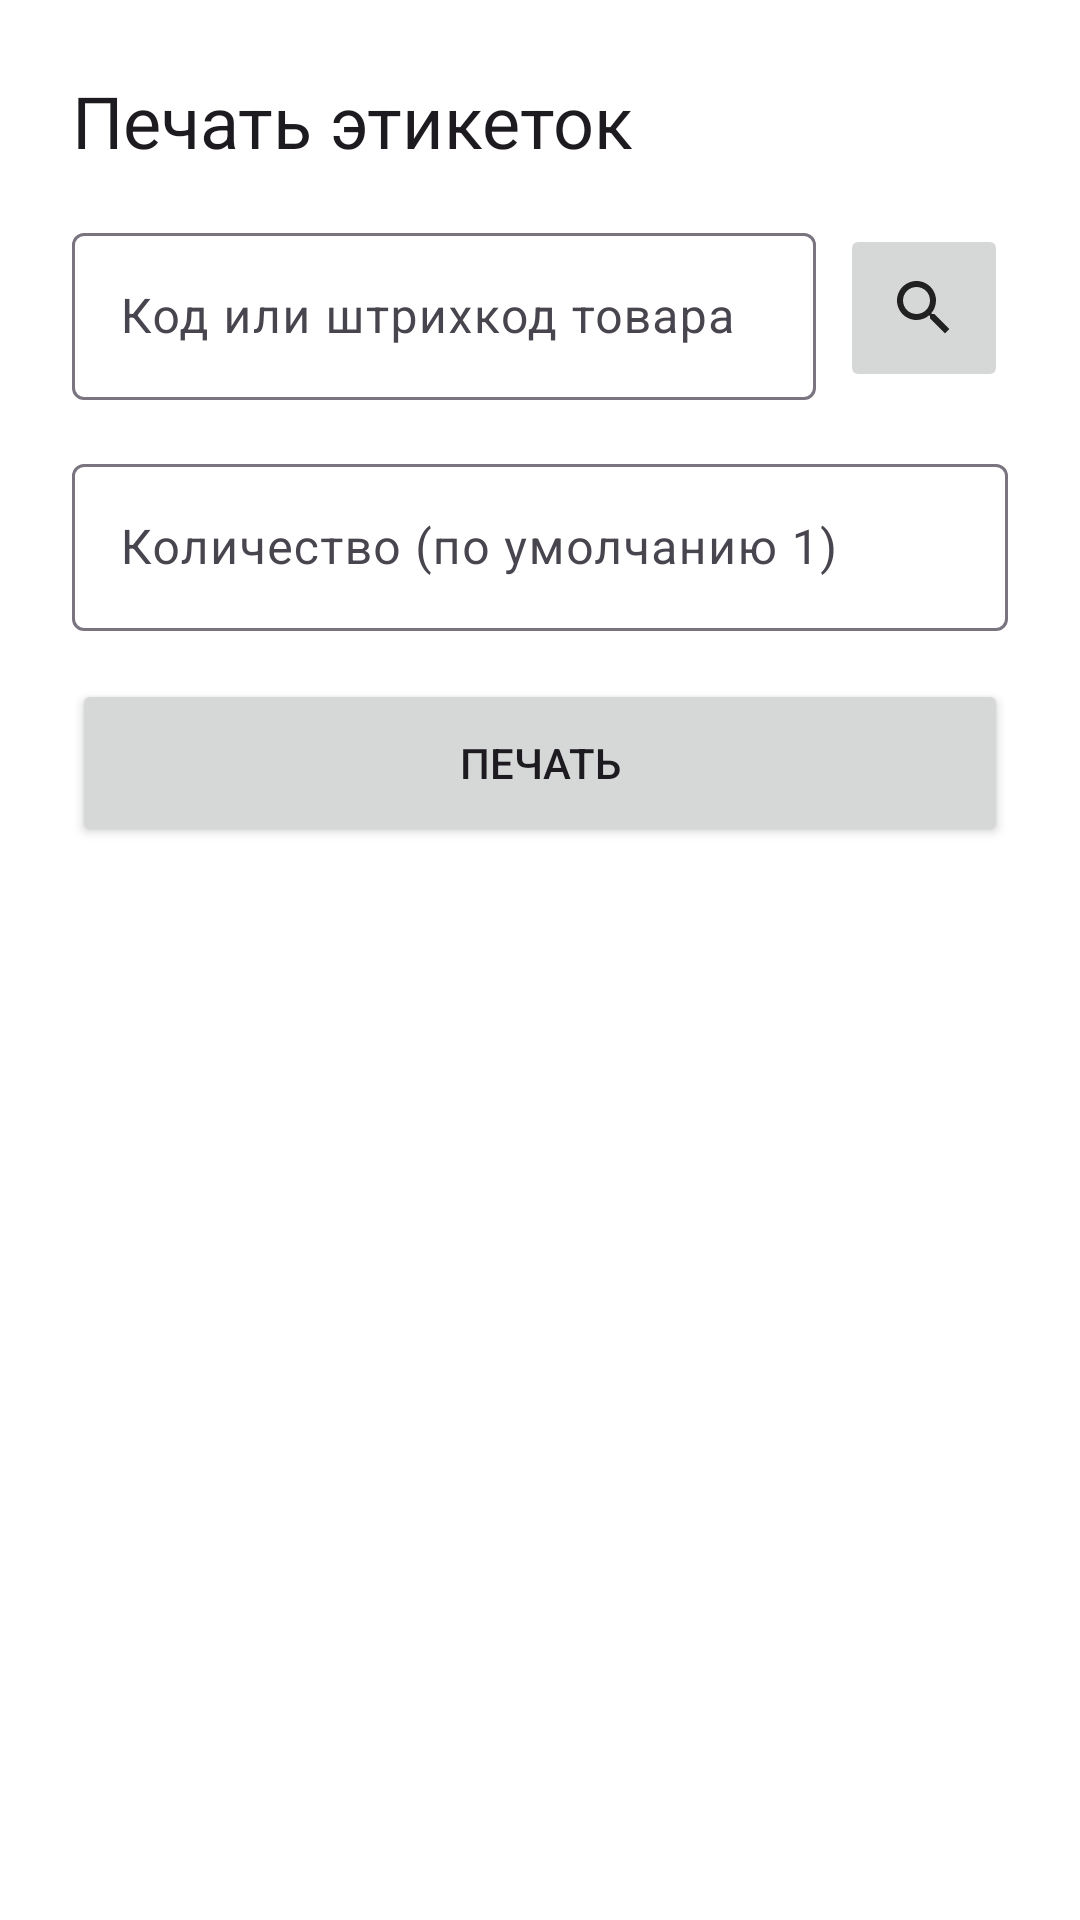

Icons on this 1080x1920 Android screen, each with the point to tap as (x=x, y=y):
Найти название товара: (x=924, y=308)
